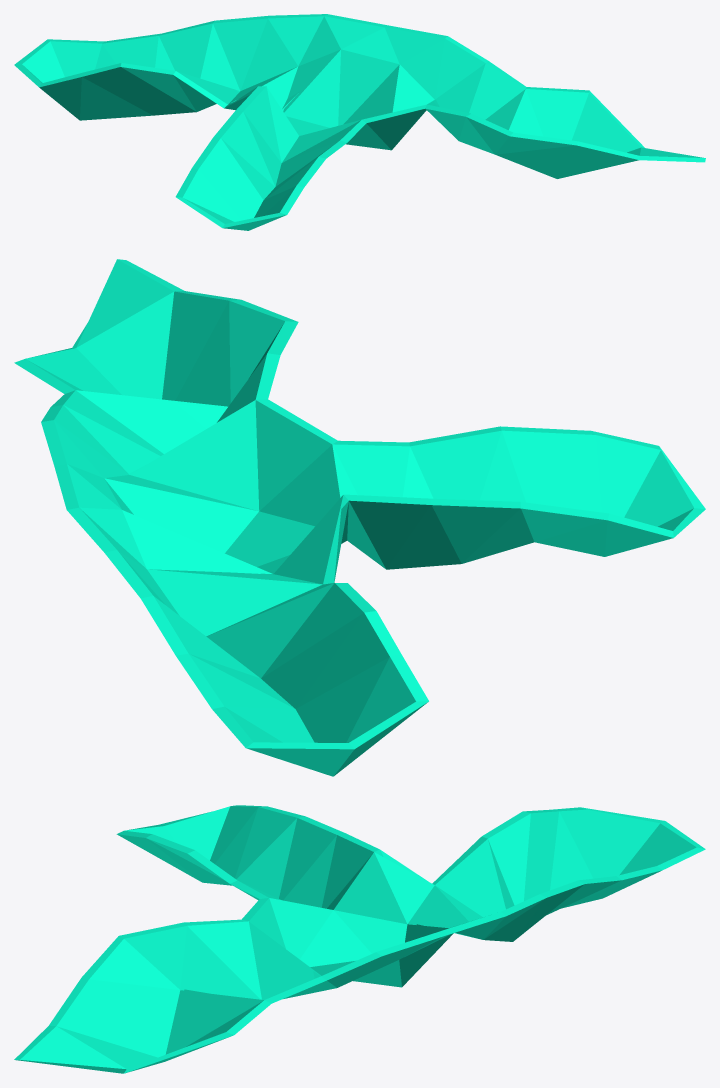
Rendered from aRune_5_runeOnly.fbx.
The picture shows the model from 3 angles, top to bottom: view 1: azimuth 30°, elevation 25°; view 2: azimuth 150°, elevation 25°; view 3: azimuth 270°, elevation 25°; orthographic projection. The views are drawn at different scales.
Visible parts, largest first — view 1: Icosphere; view 2: Icosphere; view 3: Icosphere.
Boxes of the visible parts, x1,y1,x2,y2 form: Icosphere: (14, 14, 705, 230); Icosphere: (14, 259, 705, 776); Icosphere: (14, 805, 705, 1073).
Size of the model in its own units: 117 by 22.15 by 135.
1 material, 1 textured.
